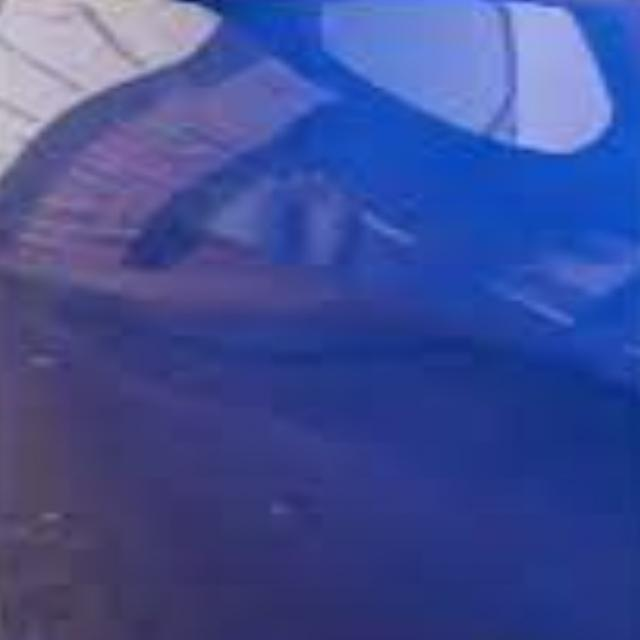dents: (246, 178, 352, 279)
